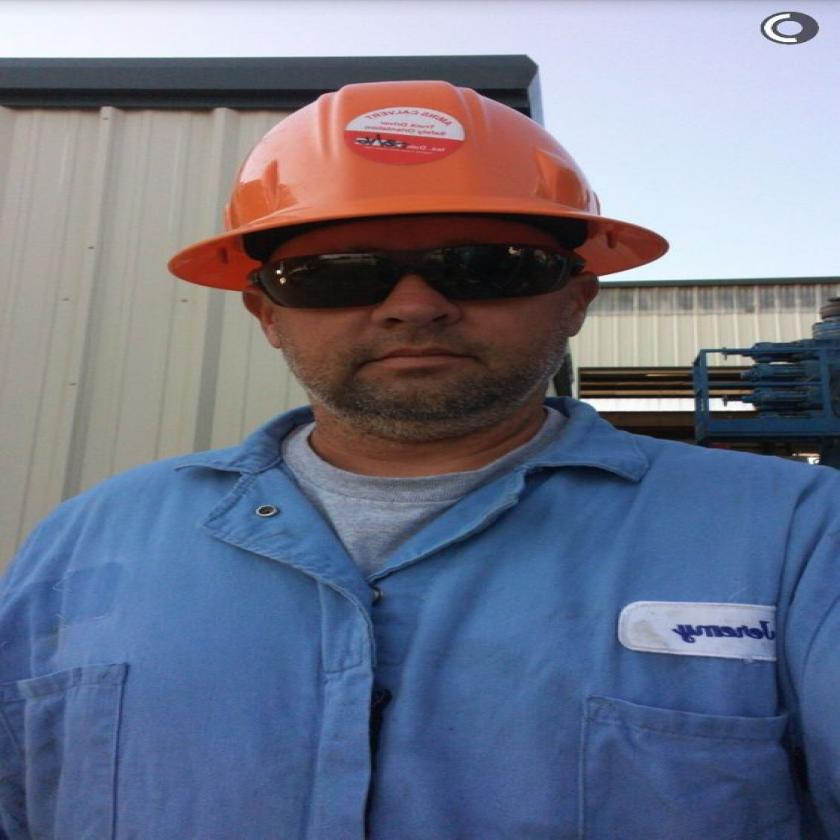Con_casco: (179, 79, 681, 446)
